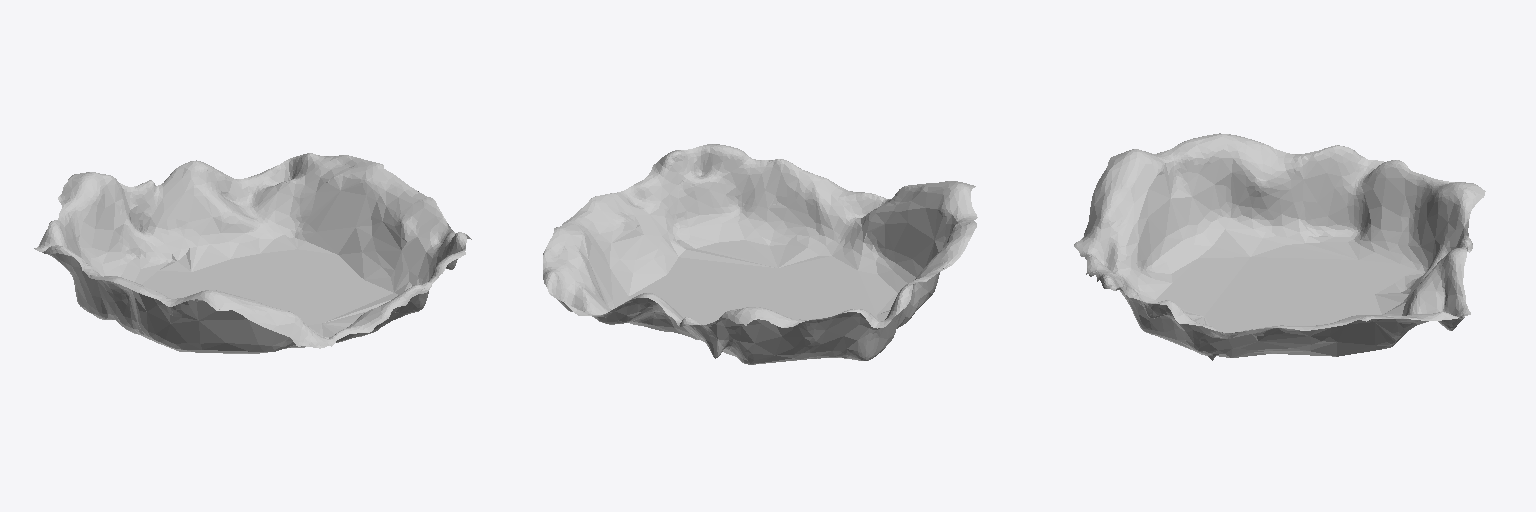
Rendered from Level1.obj.
3 views of the same model, side by side, from view 1: azimuth 30°, elevation 25°; view 2: azimuth 150°, elevation 25°; view 3: azimuth 270°, elevation 25° (orthographic).
Visible parts, largest first — view 1: Grid_Grid.001; view 2: Grid_Grid.001; view 3: Grid_Grid.001.
Part boxes in pixels (x1,y1,x2,y2): Grid_Grid.001: (34,153,471,353); Grid_Grid.001: (543,144,977,364); Grid_Grid.001: (1074,133,1485,360).
Bounding box in the file's own units: 1300 × 329 × 1311.